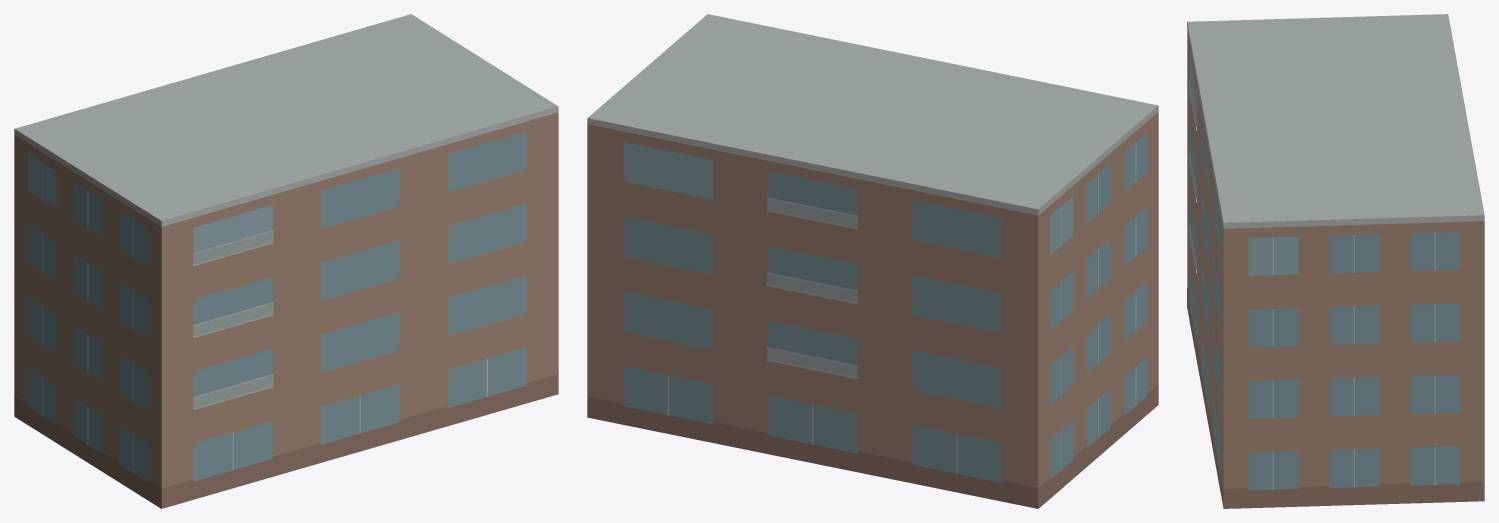
The model's file is survey-upis-32757700.glb.
3 renders of one model, left to right at view 1: azimuth 30°, elevation 25°; view 2: azimuth 150°, elevation 25°; view 3: azimuth 270°, elevation 25°, orthographic. The views are drawn at different scales.
Visible parts, largest first — view 1: survey-upis-32757700.tmp; view 2: survey-upis-32757700.tmp; view 3: survey-upis-32757700.tmp.
Part boxes in pixels (left/top/right/bottom): survey-upis-32757700.tmp: left=14, top=14, right=558, bottom=508; survey-upis-32757700.tmp: left=587, top=14, right=1158, bottom=508; survey-upis-32757700.tmp: left=1187, top=14, right=1484, bottom=508.
Bounding box in the file's own units: 18.42 × 11.75 × 11.09.
